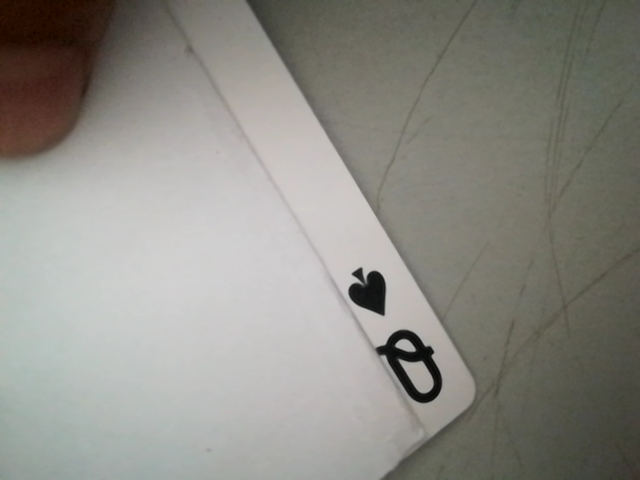ht q: (332, 254, 466, 426)
